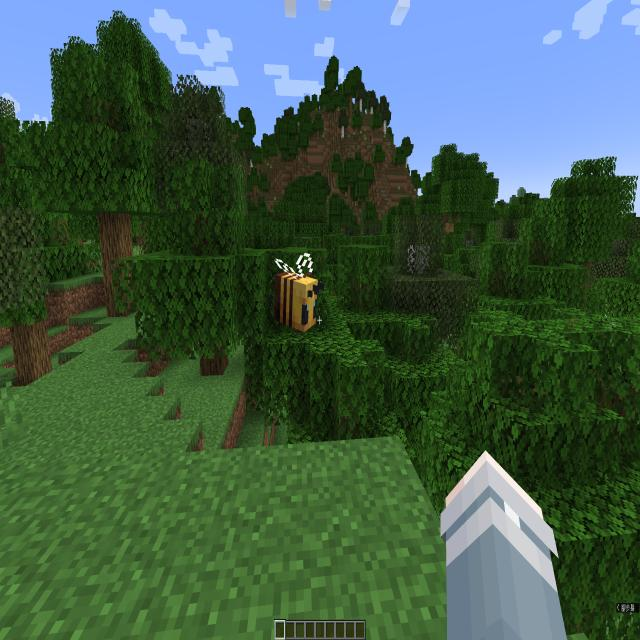bee: (268, 247, 326, 345)
